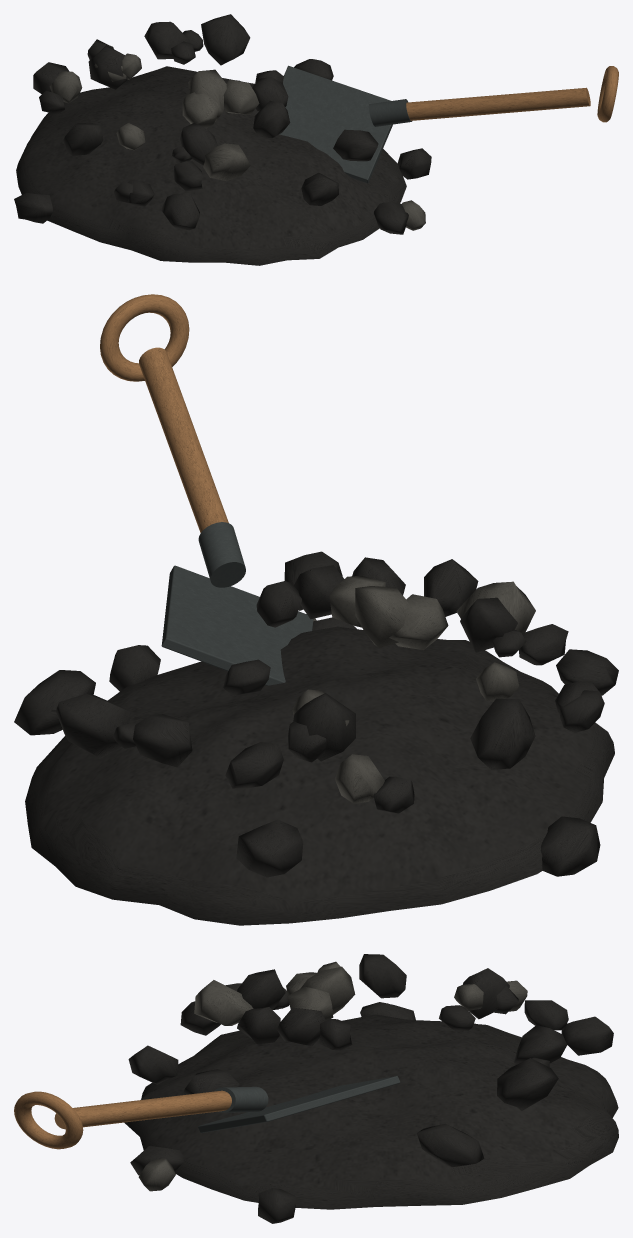
The model's file is coal_pile.glb.
3 views of the same model, one above another, from view 1: azimuth 30°, elevation 25°; view 2: azimuth 150°, elevation 25°; view 3: azimuth 270°, elevation 25° (orthographic). The views are drawn at different scales.
Parts seen in each view (by area): view 1: coal_pile; view 2: coal_pile; view 3: coal_pile.
Boxes of the visible parts, x1,y1,x2,y2 form: coal_pile: [14, 14, 618, 265]; coal_pile: [14, 294, 618, 925]; coal_pile: [14, 954, 618, 1223].
Bounding box in the file's own units: 1.2 × 0.4 × 1.2.
Materials: 1 (1 with a texture image).
